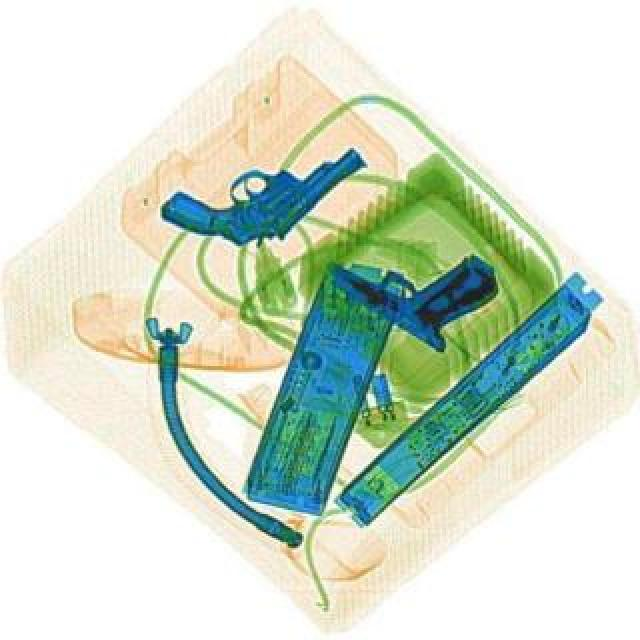gun: (156, 92, 364, 280), (316, 194, 508, 358)
